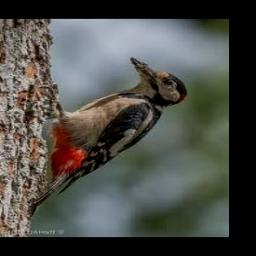Woodpecker: (28, 57, 187, 218)
